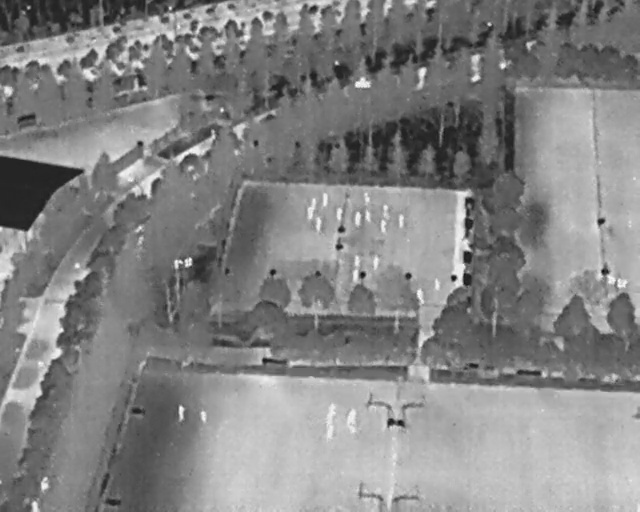Person: (325, 410, 337, 427), (176, 403, 185, 423), (314, 216, 323, 235), (415, 289, 426, 304), (354, 210, 363, 228), (349, 407, 359, 422), (382, 204, 391, 220), (372, 254, 380, 272), (327, 423, 335, 441), (345, 420, 357, 432), (363, 208, 373, 222), (379, 220, 388, 235), (351, 268, 360, 283), (433, 278, 442, 292), (354, 254, 362, 269), (362, 192, 371, 205), (321, 192, 329, 206), (398, 213, 405, 228), (307, 205, 314, 220), (200, 408, 207, 423), (335, 207, 343, 220), (328, 401, 336, 411), (311, 197, 317, 210)
